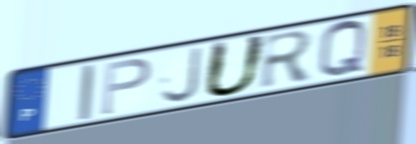I: (77, 62, 97, 123)
J: (159, 45, 203, 105)
P: (99, 56, 153, 118)
Q: (316, 18, 370, 80)
R: (259, 28, 315, 92)
U: (201, 33, 270, 100)
